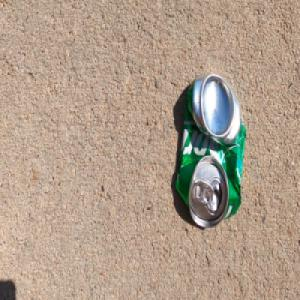SodaCan: (174, 72, 247, 229)
